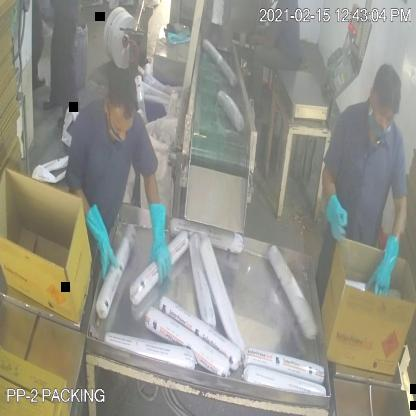glove: (358, 223, 406, 308), (83, 197, 122, 285), (143, 193, 178, 290), (322, 189, 350, 249)
no_glove: (244, 29, 278, 54)
